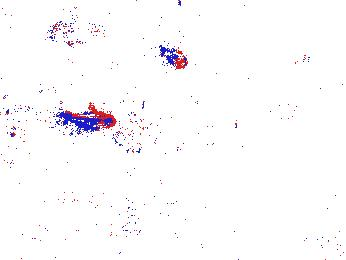X-ray fish: (43, 15, 108, 44), (111, 117, 154, 149)
red belly glassfish: (60, 109, 117, 132), (277, 52, 312, 72), (162, 45, 188, 69)
